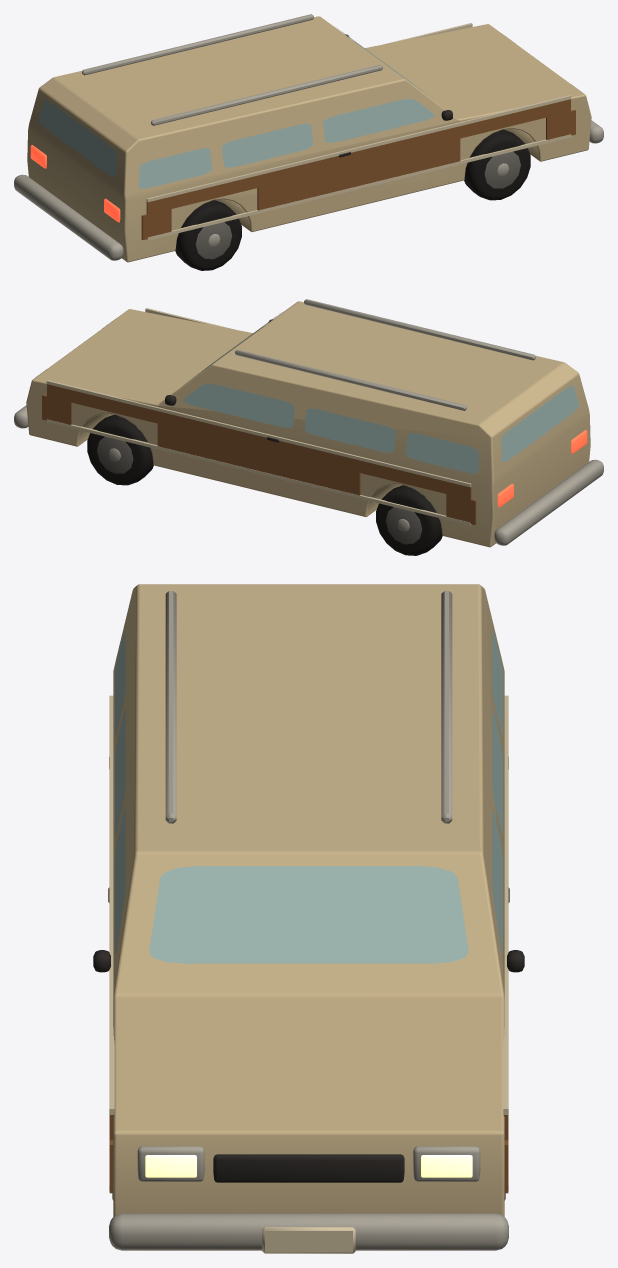
File: wagon80.glb
The picture shows the model from 3 angles, top to bottom: view 1: azimuth 30°, elevation 25°; view 2: azimuth 150°, elevation 25°; view 3: azimuth 270°, elevation 25°; orthographic projection. The views are drawn at different scales.
Parts seen in each view (by area): view 1: Wagon80, Wagon80_Wheel_RR, Wagon80_Wheel_FR; view 2: Wagon80, Wagon80_Wheel_RL, Wagon80_Wheel_FL; view 3: Wagon80.
Boxes of the visible parts, <box> form: Wagon80: <box>14,14,603,262</box>; Wagon80_Wheel_RR: <box>175,200,241,270</box>; Wagon80_Wheel_FR: <box>464,129,530,200</box>; Wagon80: <box>14,299,603,547</box>; Wagon80_Wheel_RL: <box>376,485,442,555</box>; Wagon80_Wheel_FL: <box>87,414,153,485</box>; Wagon80: <box>93,584,524,1253</box>.
Bounding box in the file's own units: 5.17 × 1.51 × 1.94.
